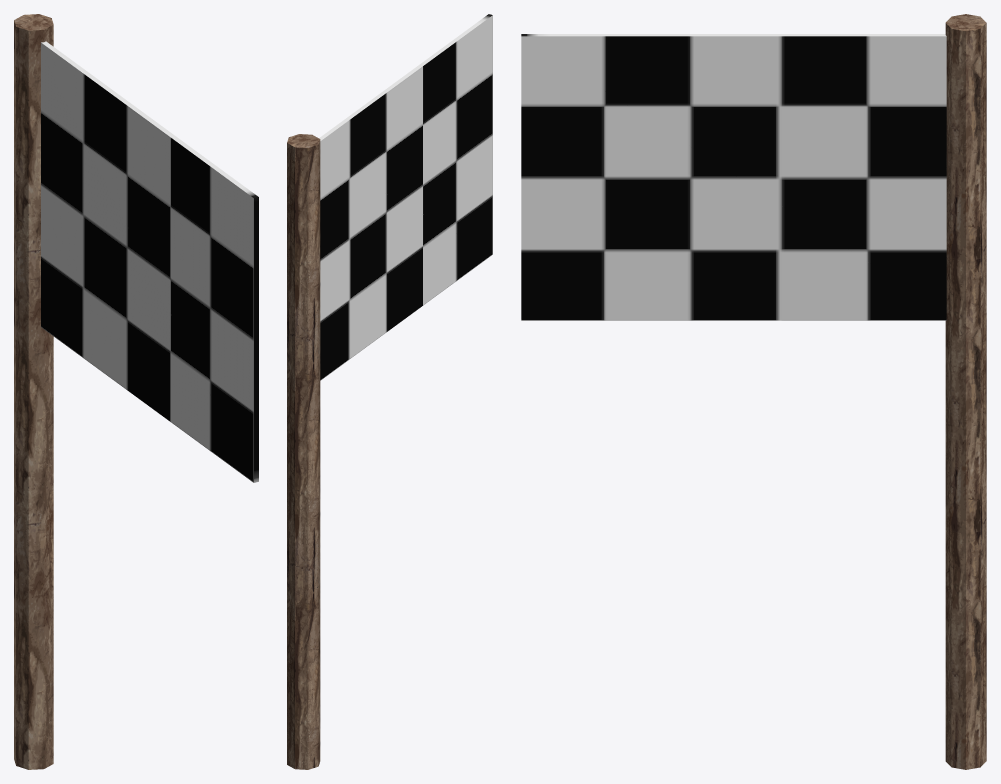
The model's file is flag 1.fbx.
3 renders of one model, left to right at view 1: azimuth 30°, elevation 25°; view 2: azimuth 150°, elevation 25°; view 3: azimuth 270°, elevation 25°, orthographic. The views are drawn at different scales.
Visible parts, largest first — view 1: polySurface1; view 2: polySurface1; view 3: polySurface1.
Boxes of the visible parts, x1,y1,x2,y2 form: polySurface1: [14, 14, 258, 769]; polySurface1: [287, 14, 492, 769]; polySurface1: [521, 14, 986, 769].
Bounding box in the file's own units: 4.32 × 85.92 × 49.03.
